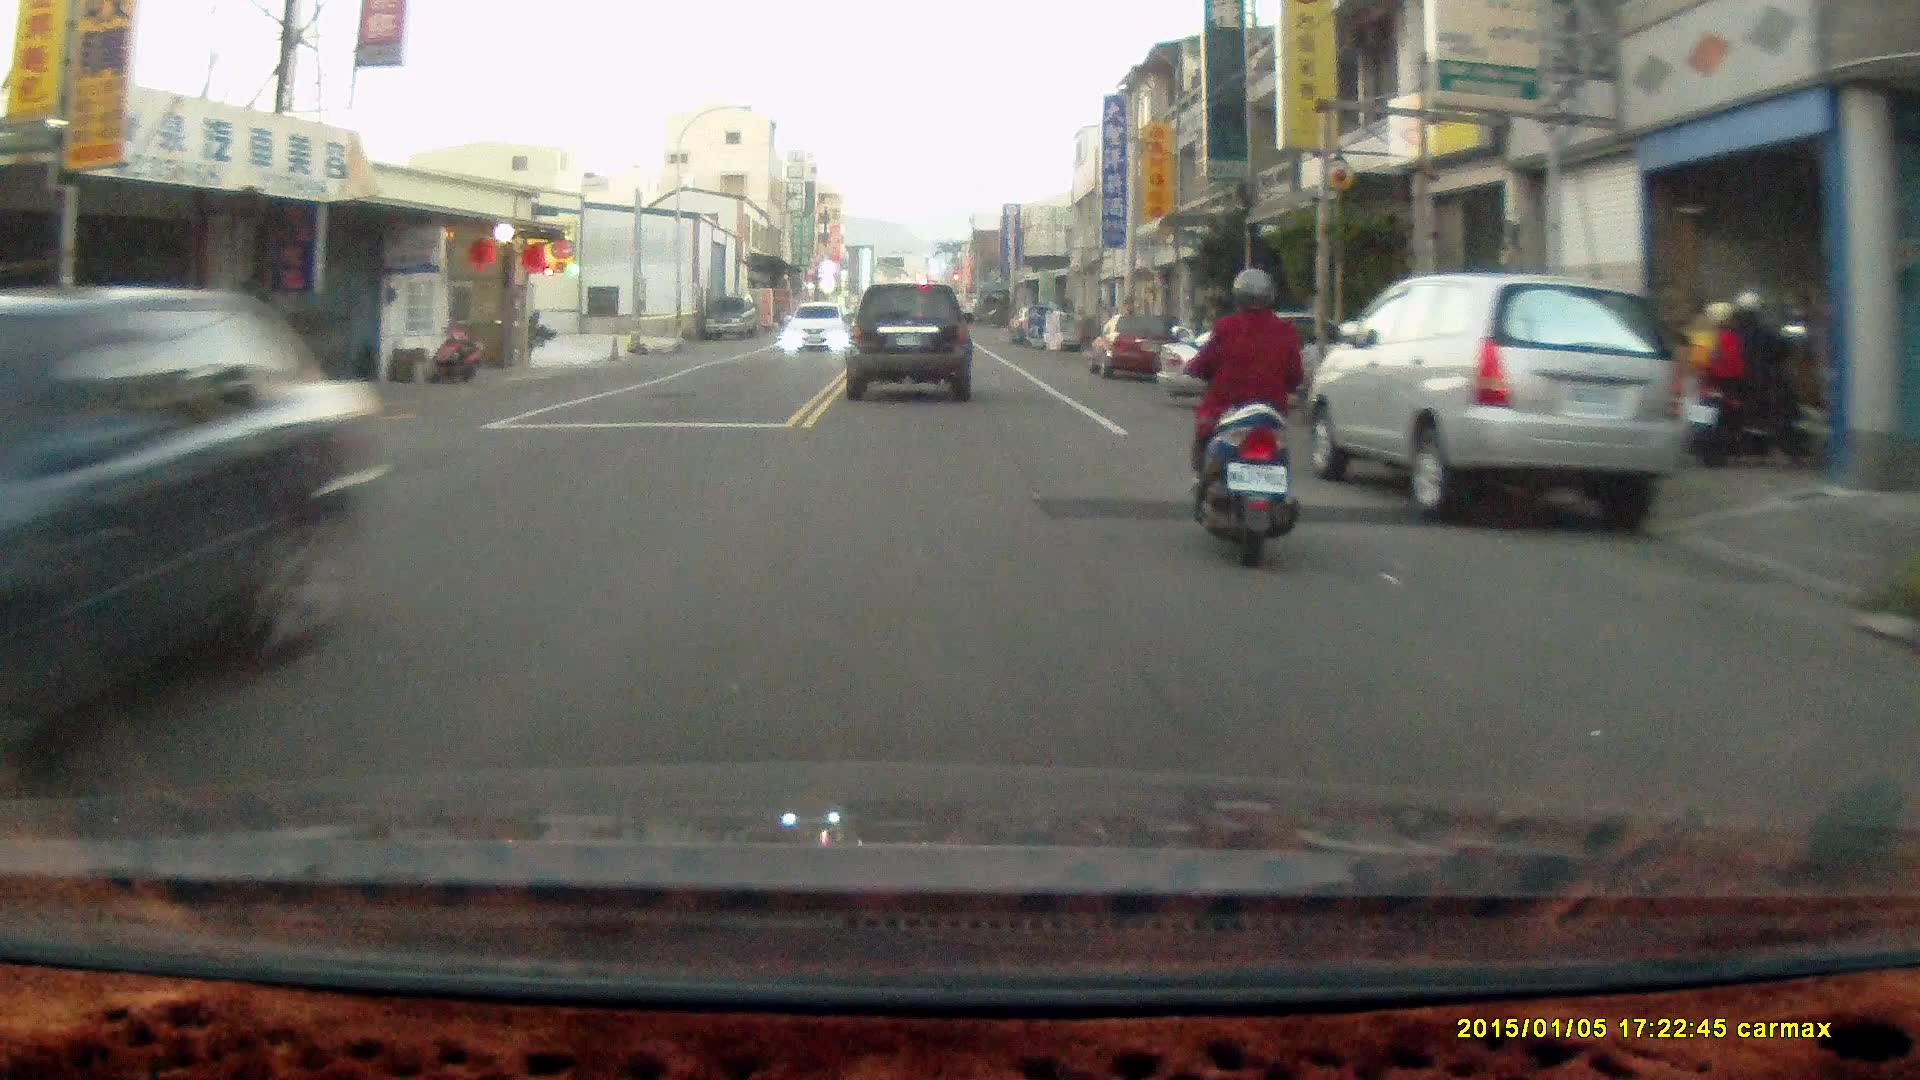rider: (1170, 259, 1302, 567), (1683, 289, 1814, 467)
vehicle: (1, 285, 392, 801), (1312, 270, 1692, 537), (846, 280, 977, 405), (1089, 313, 1182, 380), (783, 303, 847, 355)
